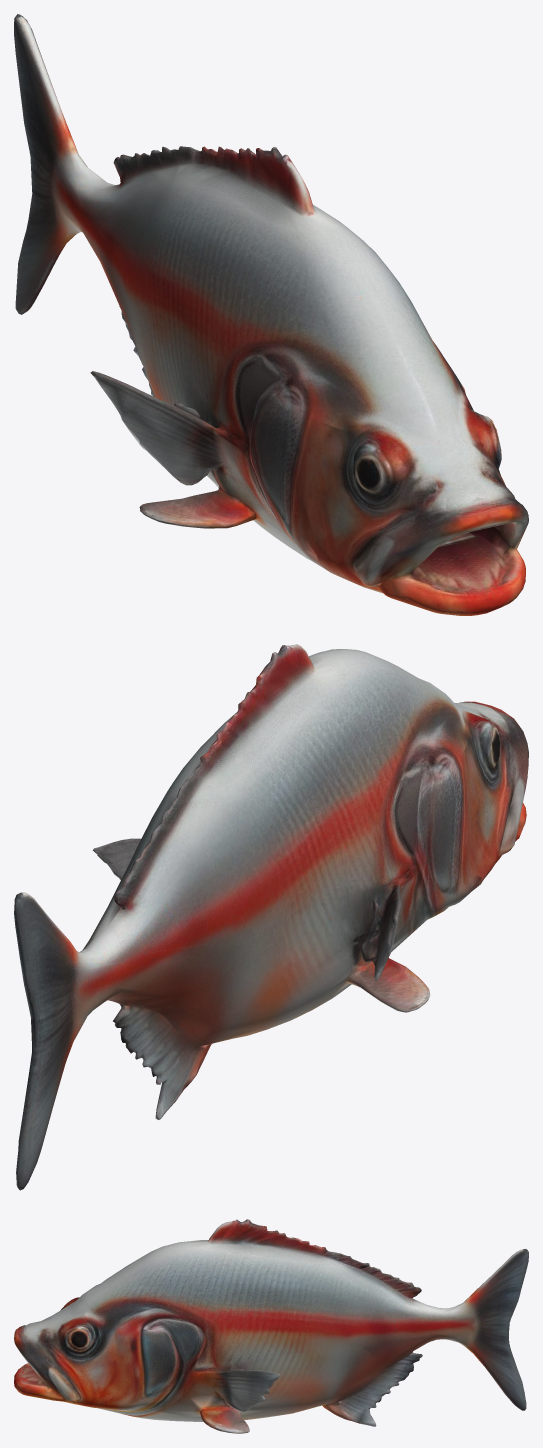
File: piranha.glb
3 renders of one model, top to bottom at view 1: azimuth 30°, elevation 25°; view 2: azimuth 150°, elevation 25°; view 3: azimuth 270°, elevation 25°, orthographic. The views are drawn at different scales.
Visible parts, largest first — view 1: Mesh_0; view 2: Mesh_0; view 3: Mesh_0.
Boxes of the visible parts, bbox=[...] form: Mesh_0: bbox=[14, 14, 528, 615]; Mesh_0: bbox=[14, 644, 528, 1190]; Mesh_0: bbox=[14, 1219, 528, 1433].
Bounding box in the file's own units: 0.7439 × 0.8909 × 2.
Materials: 1 (1 with a texture image).
